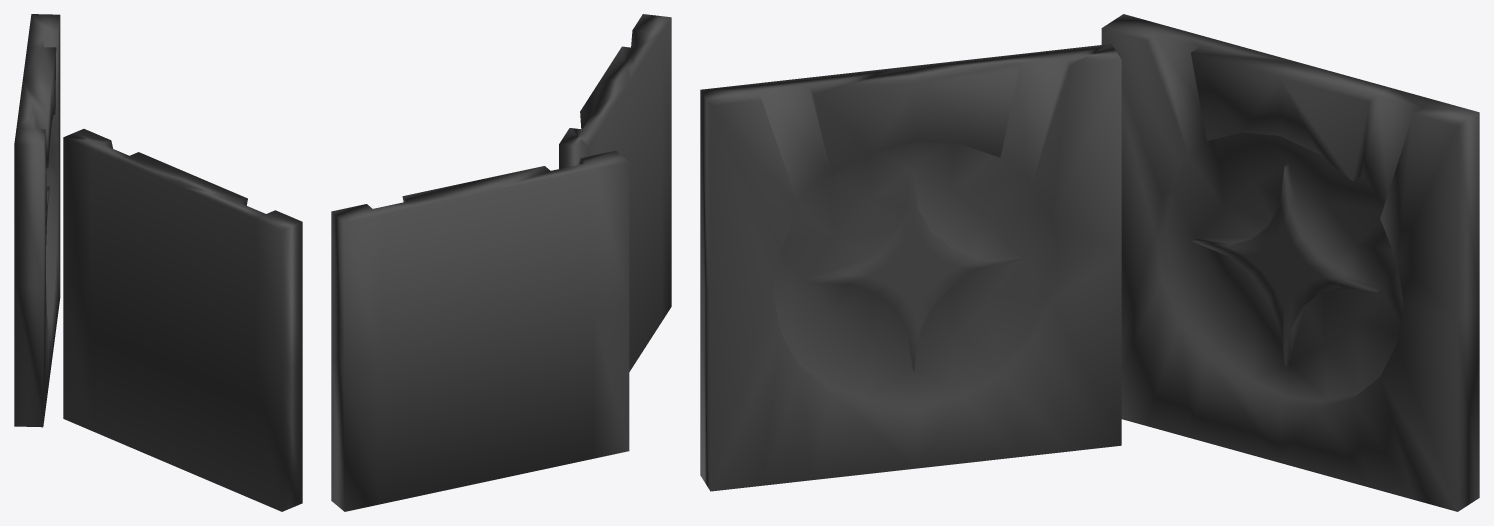
The model's file is Mold_CoinEmpty.glb.
3 renders of one model, left to right at view 1: azimuth 30°, elevation 25°; view 2: azimuth 150°, elevation 25°; view 3: azimuth 270°, elevation 25°, orthographic. The views are drawn at different scales.
Parts seen in each view (by area): view 1: Coin Mold; view 2: Coin Mold; view 3: Coin Mold.
Part boxes in pixels (x1,y1,x2,y2): Coin Mold: (14,14,302,511); Coin Mold: (331,14,671,511); Coin Mold: (700,14,1479,511).
Bounding box in the file's own units: 1.25 × 2 × 3.66.
Materials: 1 (1 with a texture image).
